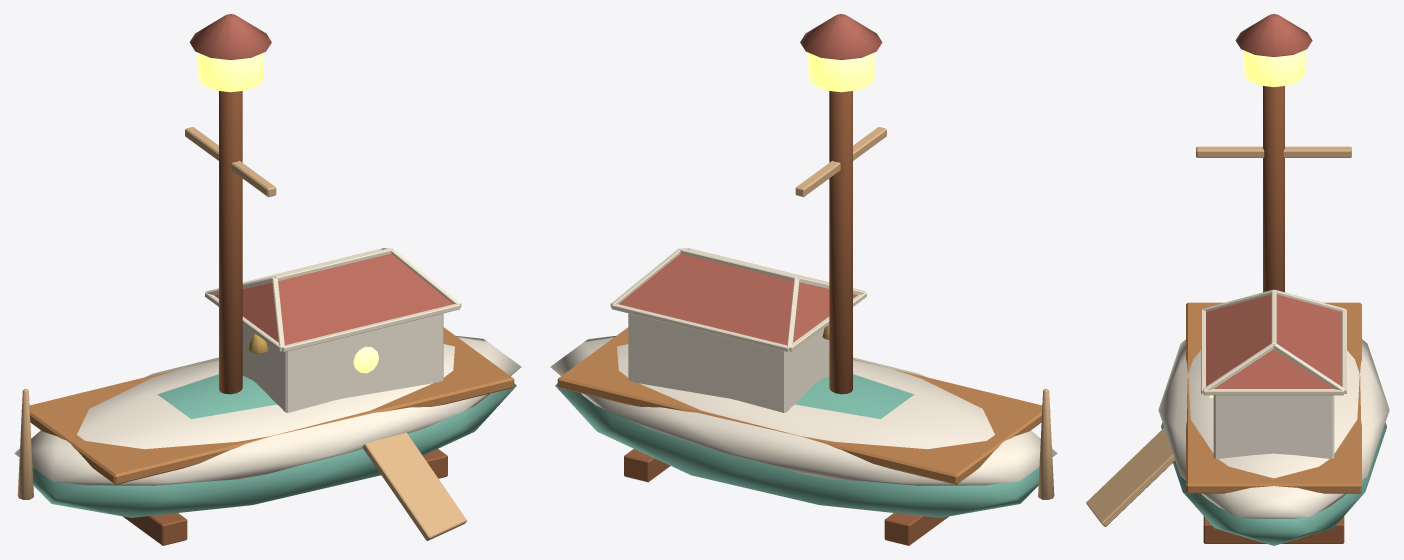
Rendered from F27-daylight-lightship.glb.
3 views of the same model, side by side, from view 1: azimuth 30°, elevation 25°; view 2: azimuth 150°, elevation 25°; view 3: azimuth 270°, elevation 25° (orthographic). The views are drawn at different scales.
Visible parts, largest first — view 1: cream_wall, Hull_Mint, Main_Deck, Cabin_Roof, toasted_wood, honey_wood, ivory_trim, amber_glow, Mast_Cap; view 2: cream_wall, Hull_Mint, Main_Deck, Cabin_Roof, toasted_wood, ivory_trim, Mast_Cap, honey_wood, amber_glow; view 3: cream_wall, Cabin_Roof, Main_Deck, toasted_wood, honey_wood, Hull_Mint, ivory_trim, Mast_Cap, amber_glow.
Part boxes in pixels (x1=…): cream_wall: x1=14, y1=313, x2=521, y2=485; Hull_Mint: x1=32, y1=374, x2=516, y2=517; Main_Deck: x1=21, y1=327, x2=514, y2=484; Cabin_Roof: x1=214, y1=253, x2=452, y2=345; toasted_wood: x1=123, y1=91, x2=447, y2=545; honey_wood: x1=17, y1=127, x2=466, y2=540; ivory_trim: x1=205, y1=248, x2=461, y2=352; amber_glow: x1=197, y1=52, x2=378, y2=373; Mast_Cap: x1=189, y1=14, x2=271, y2=59; cream_wall: x1=550, y1=313, x2=1057, y2=485; Hull_Mint: x1=555, y1=374, x2=1039, y2=517; Main_Deck: x1=557, y1=327, x2=1050, y2=484; Cabin_Roof: x1=619, y1=253, x2=857, y2=345; toasted_wood: x1=624, y1=91, x2=948, y2=545; ivory_trim: x1=610, y1=248, x2=866, y2=352; Mast_Cap: x1=800, y1=14, x2=882, y2=59; honey_wood: x1=795, y1=127, x2=1054, y2=499; amber_glow: x1=808, y1=52, x2=874, y2=92; cream_wall: x1=1158, y1=339, x2=1389, y2=518; Cabin_Roof: x1=1206, y1=294, x2=1341, y2=388; Main_Deck: x1=1186, y1=302, x2=1361, y2=493; toasted_wood: x1=1203, y1=86, x2=1344, y2=543; honey_wood: x1=1086, y1=146, x2=1351, y2=526; Hull_Mint: x1=1161, y1=422, x2=1386, y2=545; ivory_trim: x1=1201, y1=289, x2=1346, y2=395; Mast_Cap: x1=1235, y1=14, x2=1312, y2=56; amber_glow: x1=1209, y1=50, x2=1304, y2=397.
Size of the model in its own units: 10.39 by 9.8 by 6.03.
